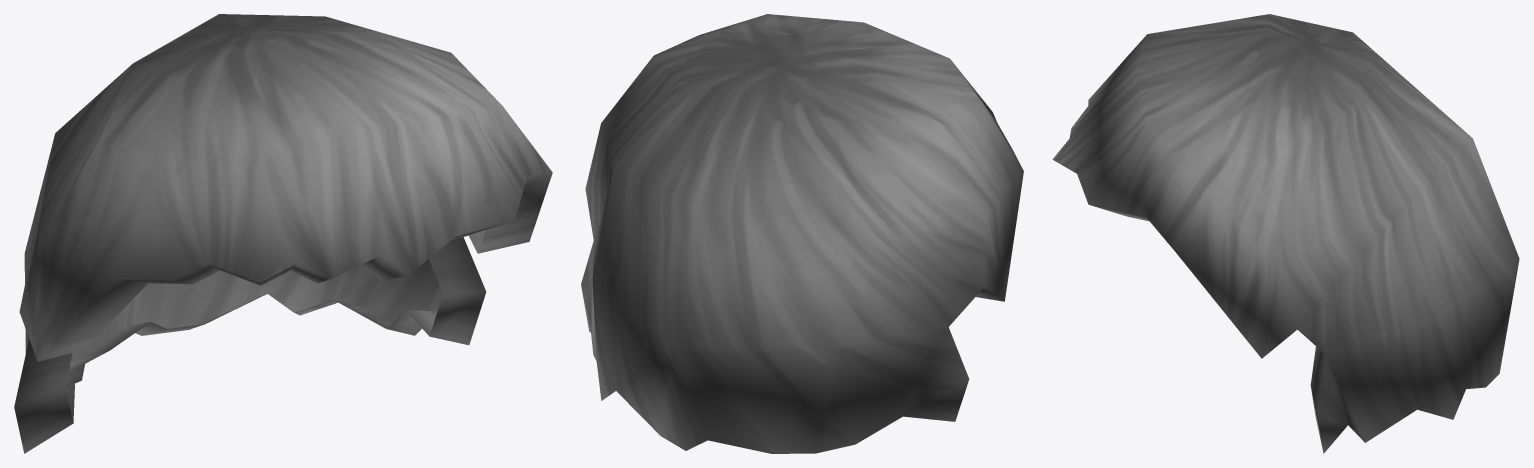
Rendered from NPC_Hair_006.fbx.
The picture shows the model from 3 angles, left to right: view 1: azimuth 30°, elevation 25°; view 2: azimuth 150°, elevation 25°; view 3: azimuth 270°, elevation 25°; orthographic projection. The views are drawn at different scales.
Visible parts, largest first — view 1: NPC_Hair_006; view 2: NPC_Hair_006; view 3: NPC_Hair_006.
Part boxes in pixels (box(x1,y1,x2,y2)): NPC_Hair_006: box(14, 14, 552, 453); NPC_Hair_006: box(581, 14, 1023, 453); NPC_Hair_006: box(1052, 14, 1519, 453).
Bounding box in the file's own units: 31.78 × 24.8 × 31.16.
